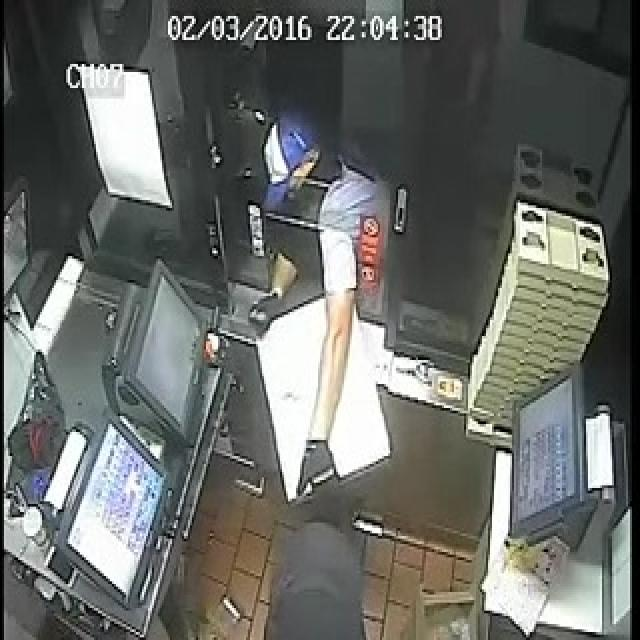thief: (261, 122, 352, 263)
